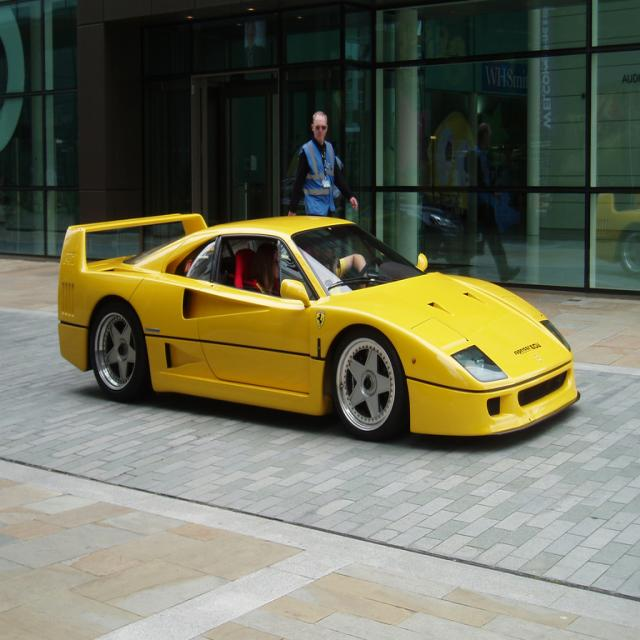car: (56, 213, 583, 439)
